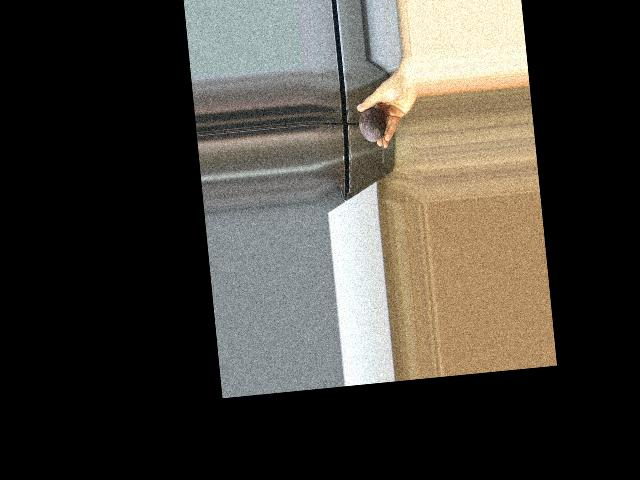beet: (357, 106, 389, 165)
